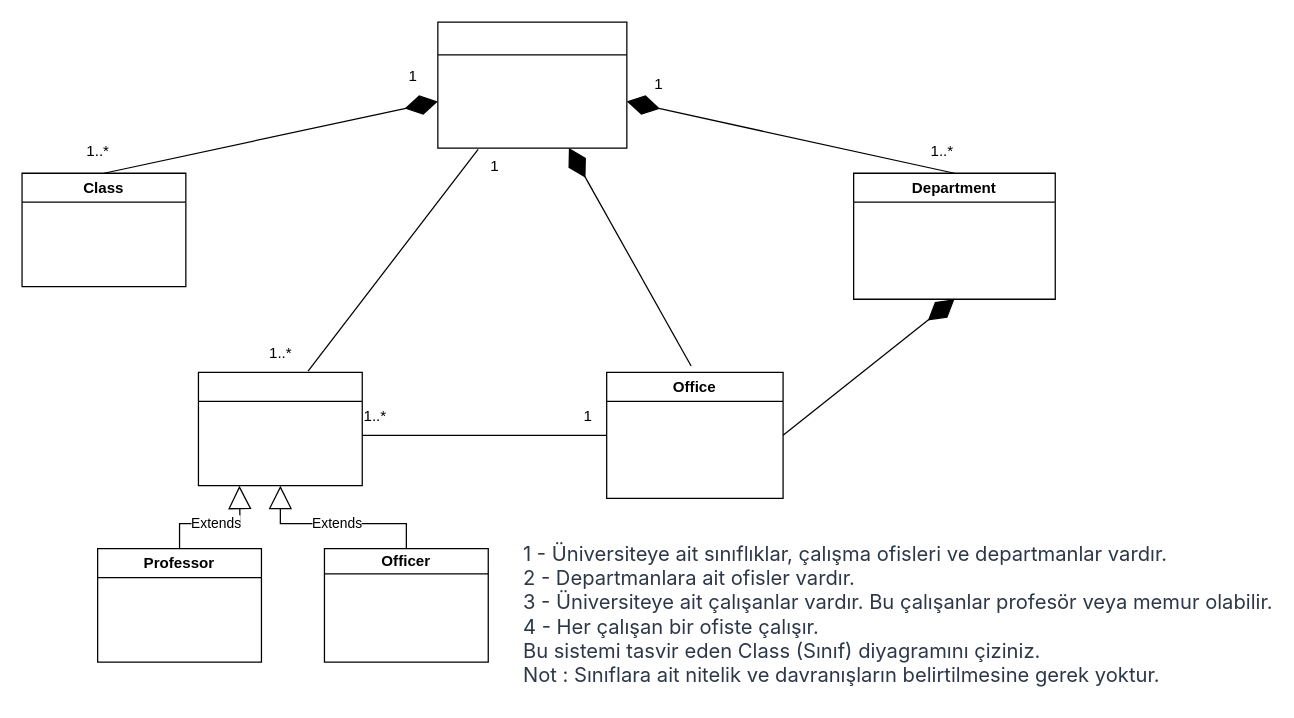
Image size: 1294x718. Some labels were removed from this diagram. The box of each missing label's shape, as (x1, y1, x2, y2) in pixels:
University: (437, 21, 627, 148)
Worker: (197, 371, 362, 486)
